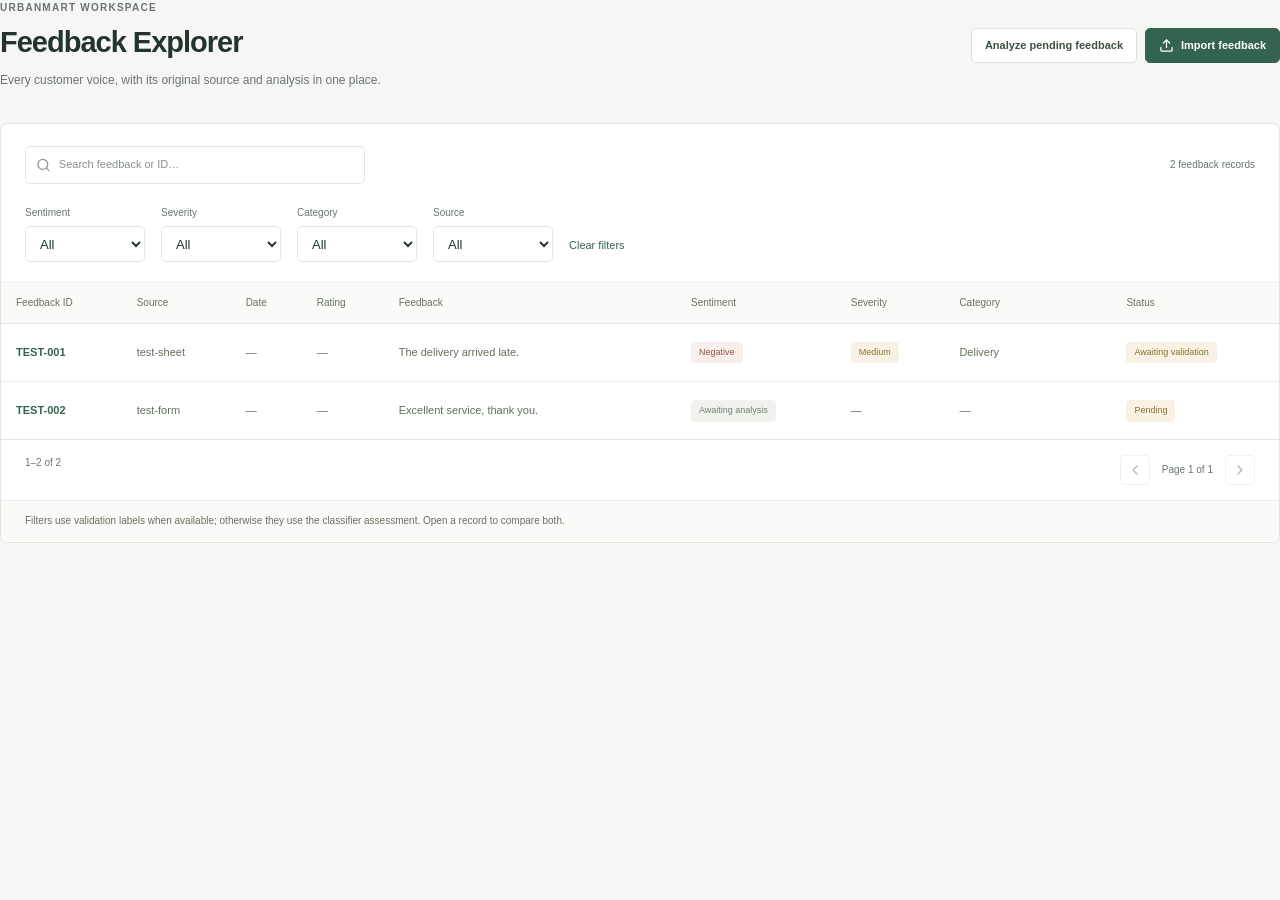
Scenario: Workspace › renders feedback, combines filters, clears them, and opens source evidence
The width and height of the screenshot is (1280, 900).
Expected: the button "TEST-001" is shown, [16,341,66,364]
Expected: the button "TEST-002" is shown, [16,399,66,422]
Select "Negative" in the dropdown labelled "Sentiment" at (85, 244), box [25,226,145,262]
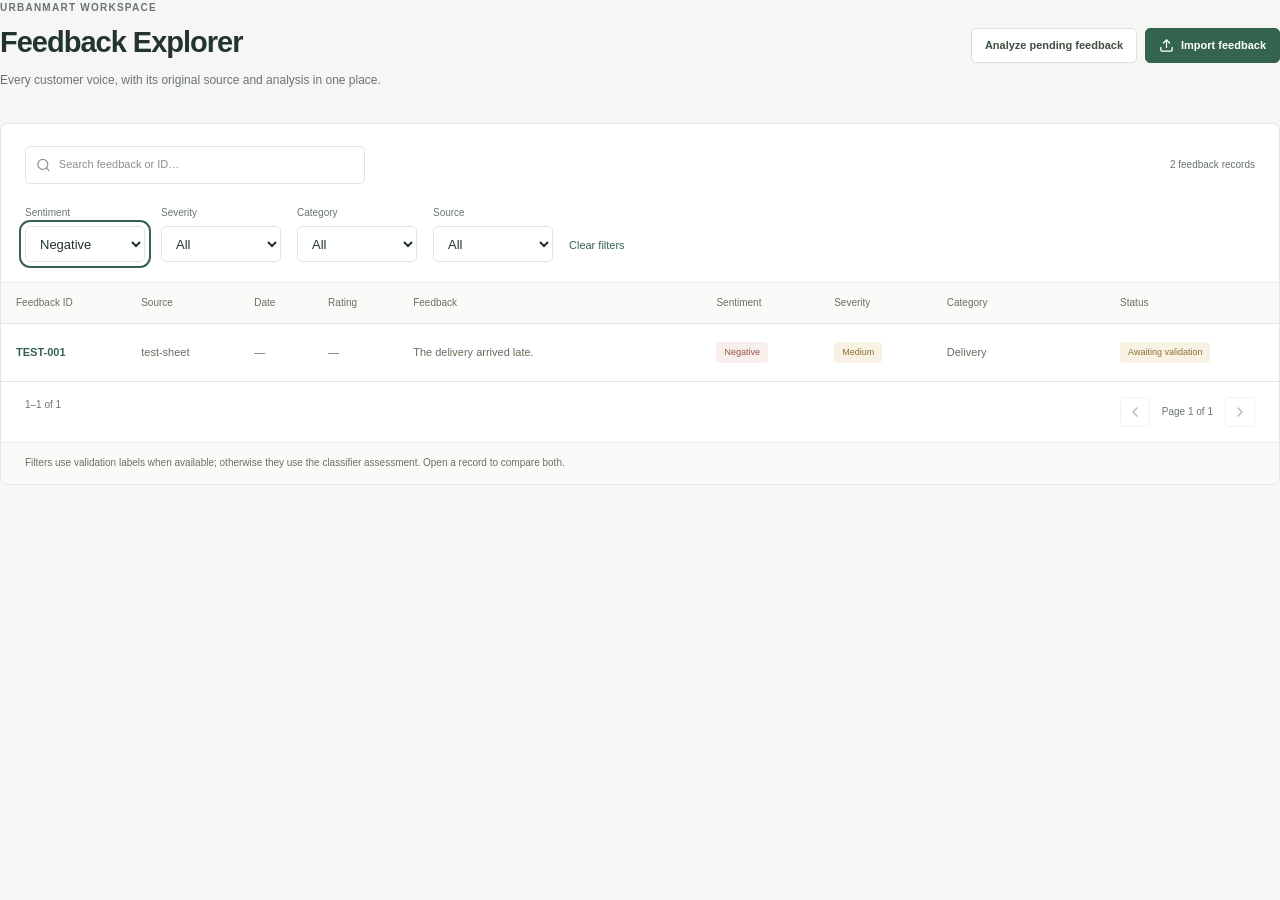
Now the button "TEST-002" is gone
Select "Test-form" in the dropdown labelled "Source" at (493, 244), box [433,226,553,262]
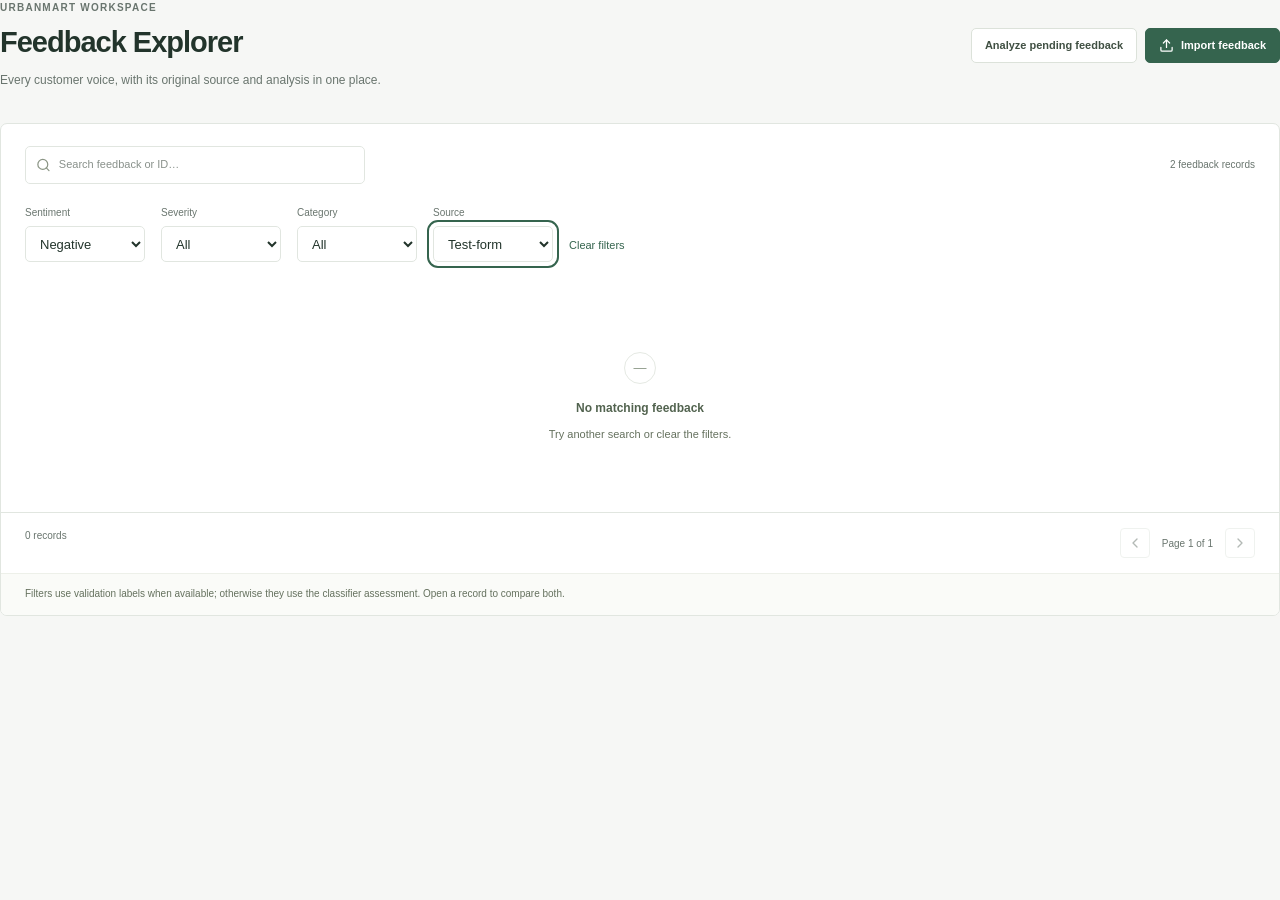
Now the heading "No matching feedback" is shown, box [576,399,704,417]
Click the button "Clear filters" at (597, 246), box [569,229,625,262]
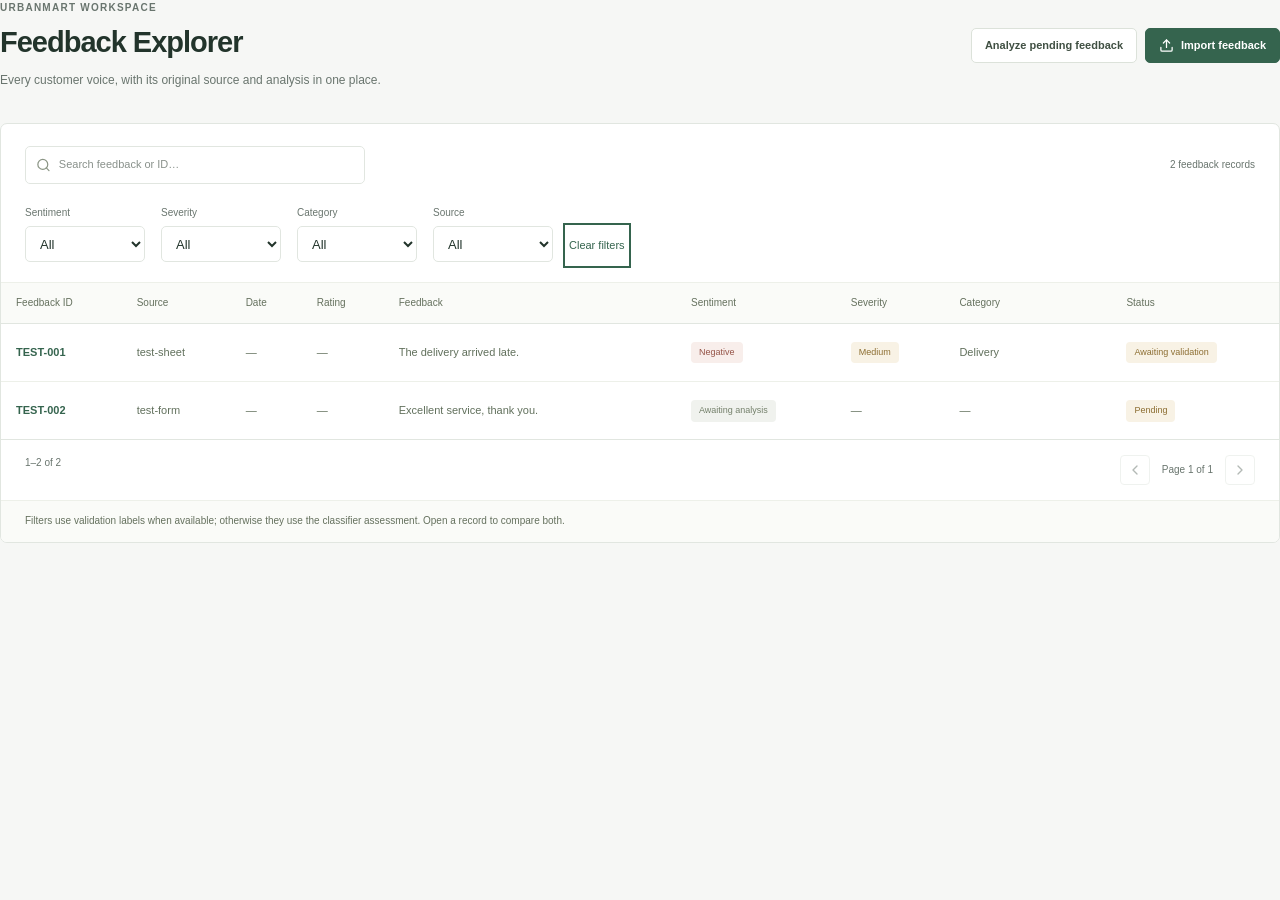
Type "late" into the field labelled "Search feedback" at (206, 165), box [59,147,354,183]
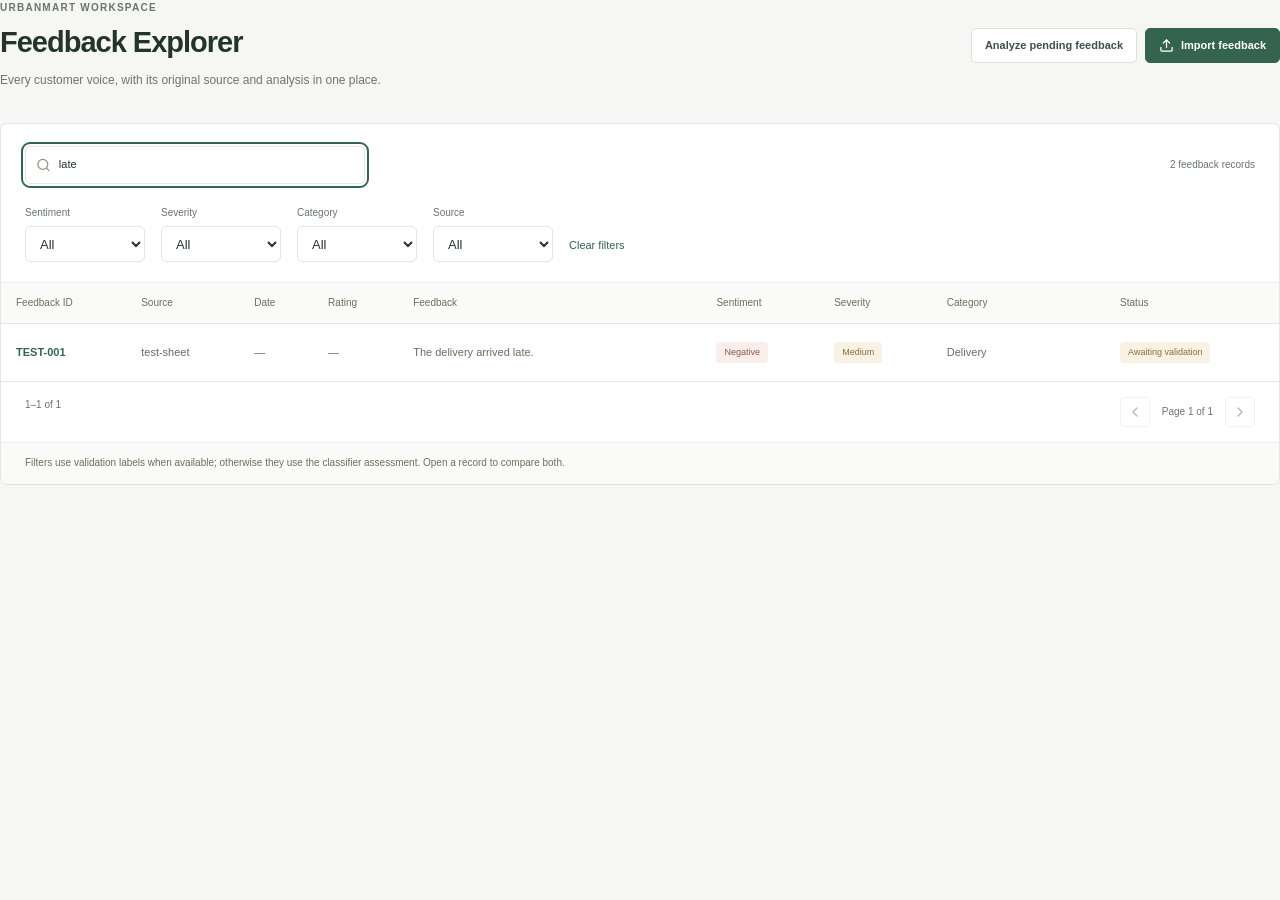
Now the button "TEST-002" is gone
Click the button "TEST-001" at (41, 352), box [16,341,66,364]
(page scrolled)
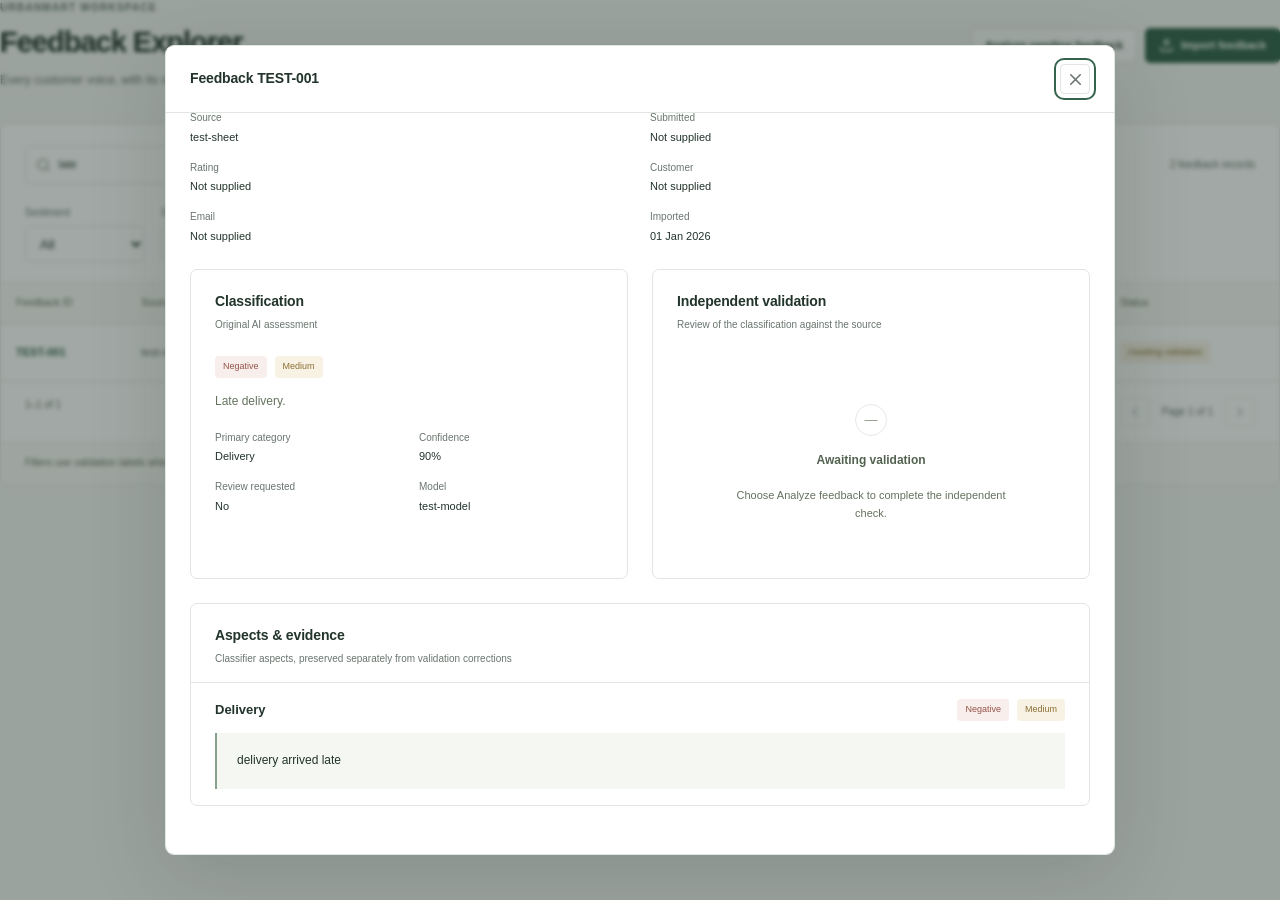
Now the text "The delivery arrived late." is shown, box [190,45,1090,90]
Now the text "delivery arrived late" is shown, box [215,733,1065,789]
